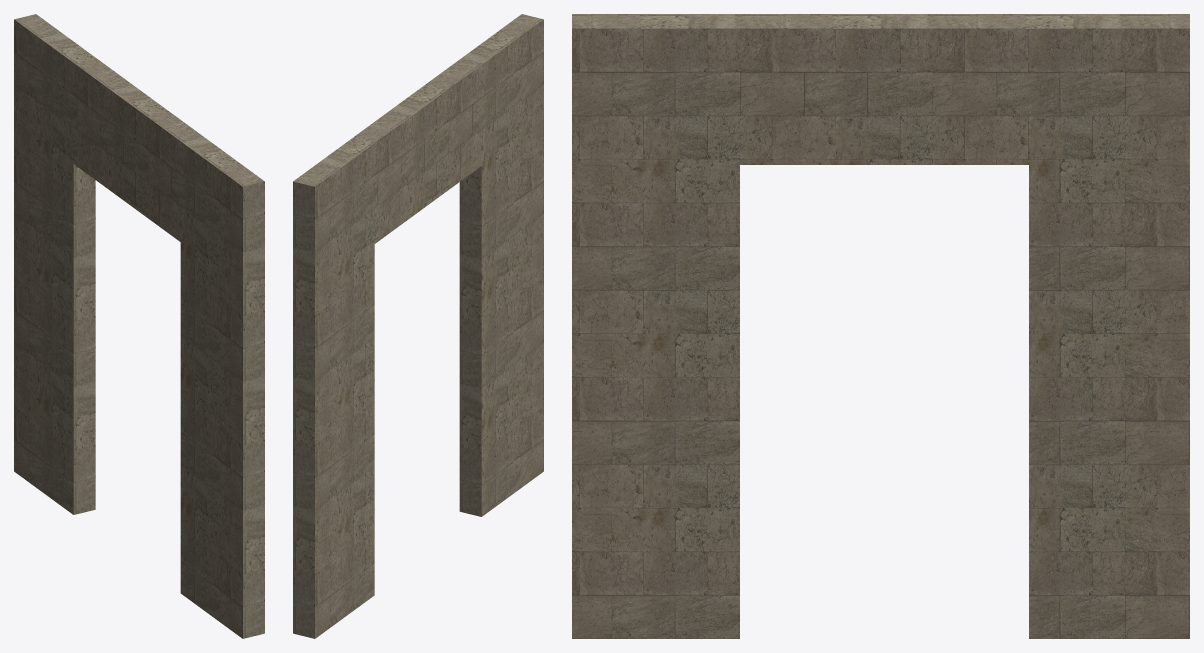
The model's file is soupdoorwall007.glb.
3 renders of one model, left to right at view 1: azimuth 30°, elevation 25°; view 2: azimuth 150°, elevation 25°; view 3: azimuth 270°, elevation 25°, orthographic. The views are drawn at different scales.
Parts seen in each view (by area): view 1: soupdoorwall007_high_1; view 2: soupdoorwall007_high_1; view 3: soupdoorwall007_high_1.
Part boxes in pixels (box(x1,y1,x2,y2)): soupdoorwall007_high_1: box(14, 14, 264, 638); soupdoorwall007_high_1: box(293, 14, 543, 638); soupdoorwall007_high_1: box(572, 14, 1189, 638).
Bounding box in the file's own units: 0.1504 × 2.95 × 2.7.
1 material, 1 textured.
